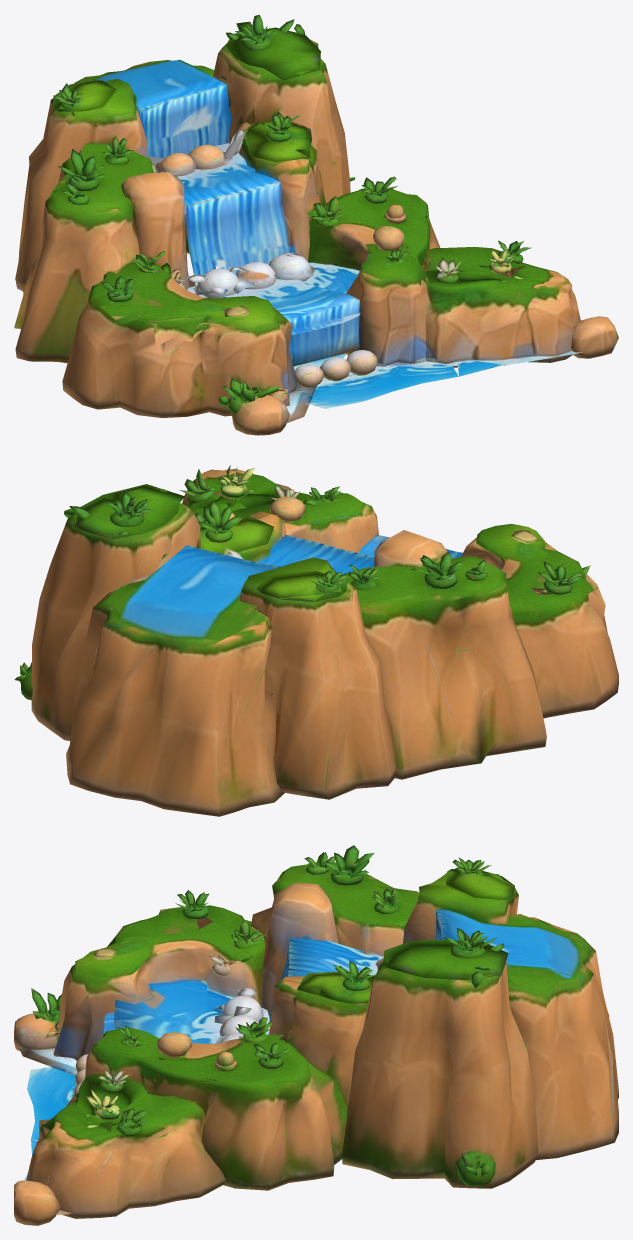
Rendered from s2_r2c3_tiered_waterfall_stream.glb.
3 views of the same model, one above another, from view 1: azimuth 30°, elevation 25°; view 2: azimuth 150°, elevation 25°; view 3: azimuth 270°, elevation 25° (orthographic). The views are drawn at different scales.
Bounding box in the file's own units: 0.9381 × 0.402 × 1.
Materials: 1 (1 with a texture image).
